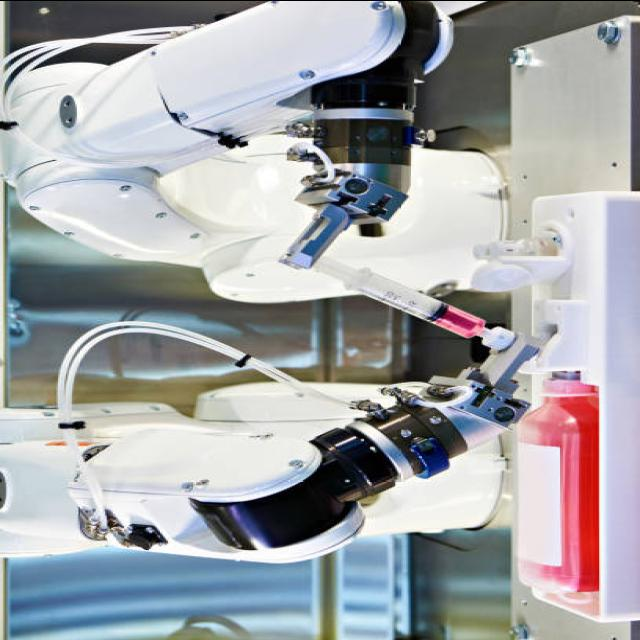Robotic-arm: (0, 0, 507, 314), (0, 314, 510, 569)
